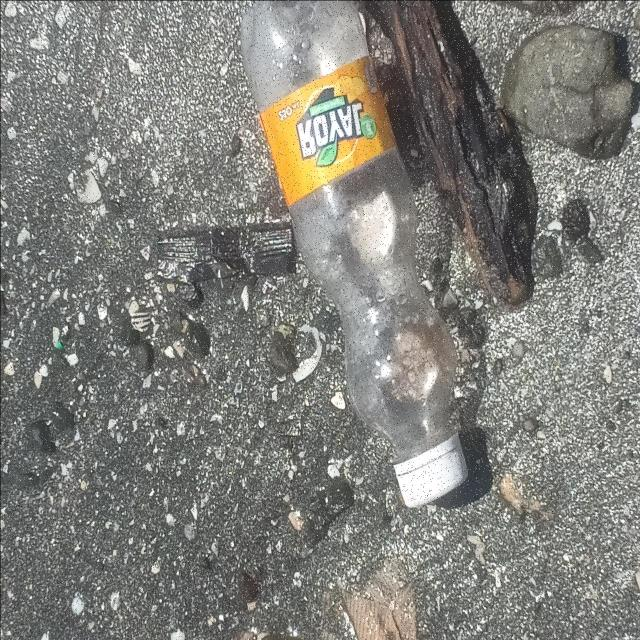plastic_waste: (240, 1, 464, 511)
